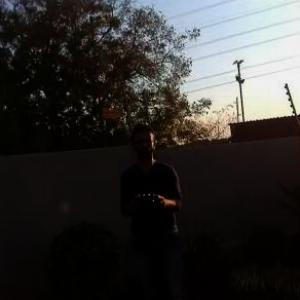follow: (116, 116, 189, 299)
